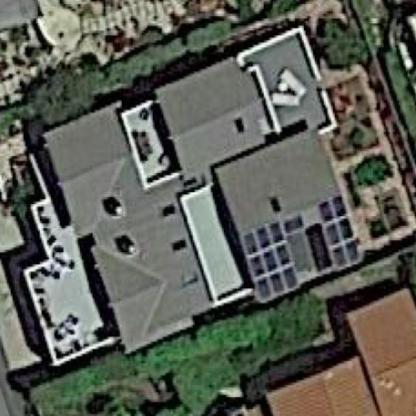solar_panel: (235, 216, 301, 306), (304, 193, 362, 276)
